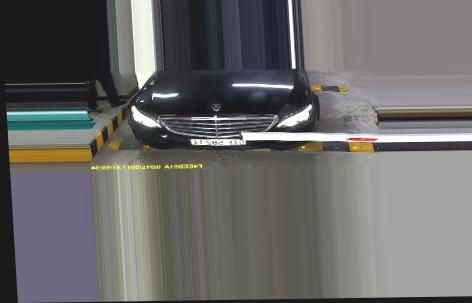License_Plate: (194, 134, 247, 149)
